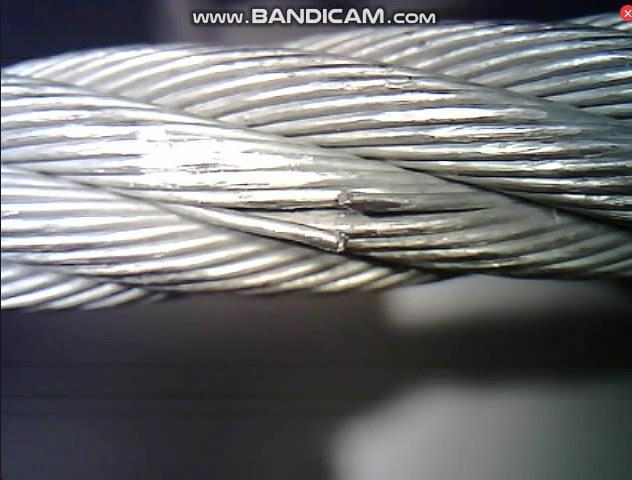break: (309, 186, 375, 255)
